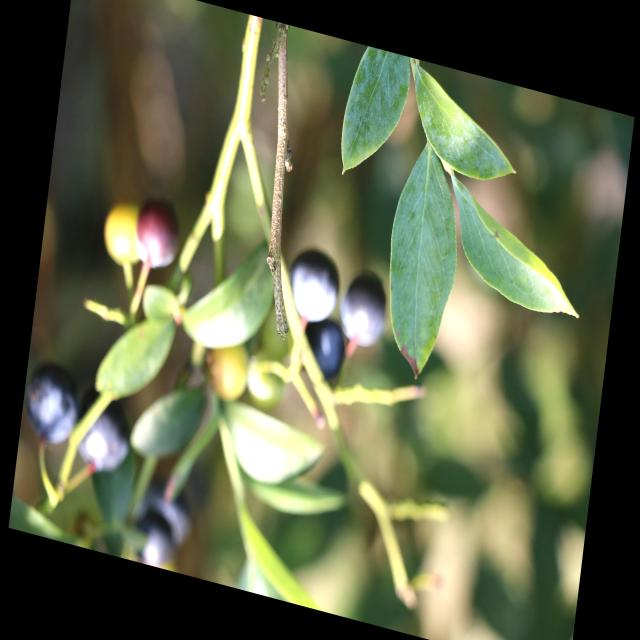blueberry: (68, 385, 139, 488), (19, 352, 87, 454), (276, 237, 346, 336), (128, 469, 200, 556), (332, 259, 394, 358), (292, 304, 351, 392), (120, 498, 182, 572)
blueberry-halfripe: (130, 196, 184, 277)
blueberry-unripe: (204, 333, 253, 404), (100, 200, 146, 272)
